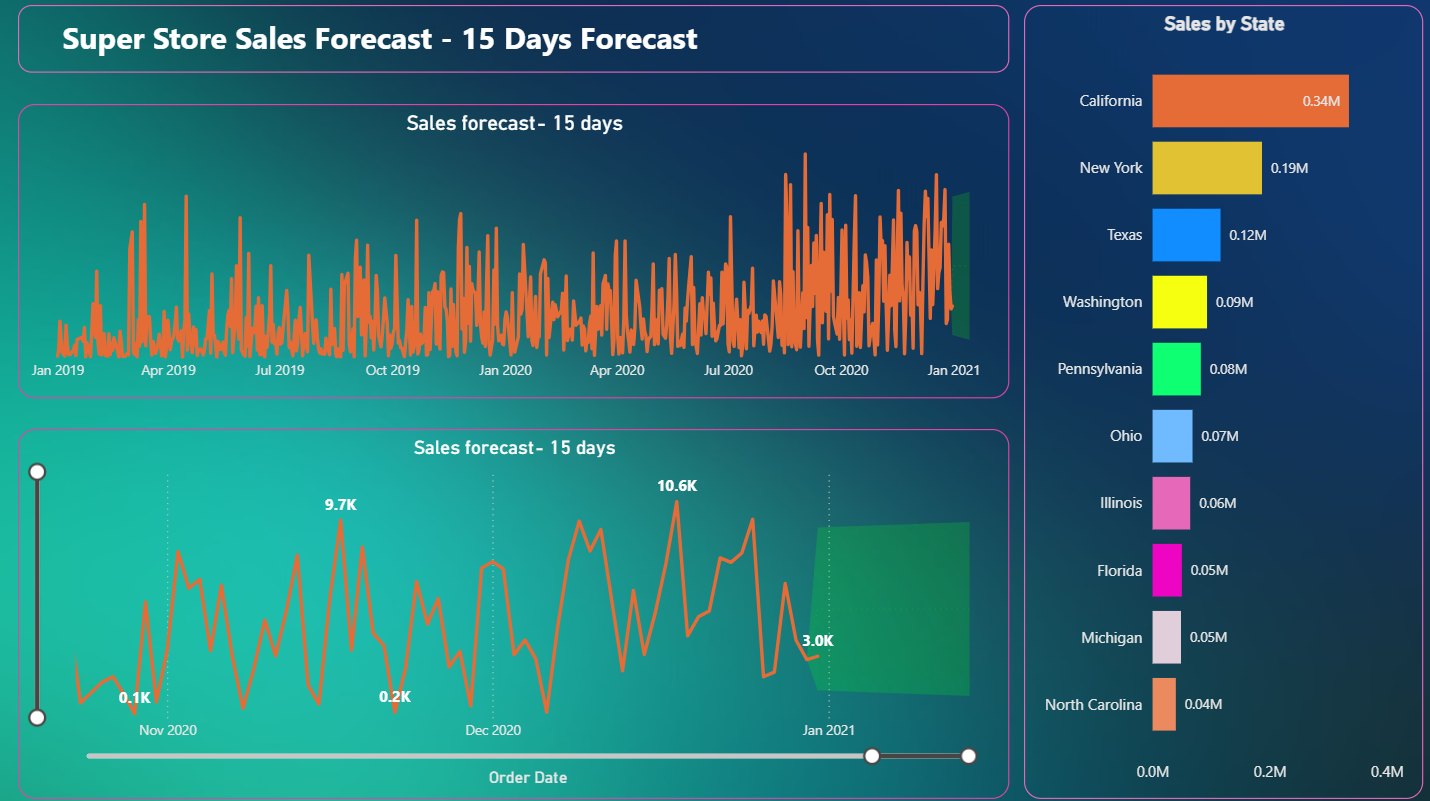

What the dashboard file says about the page in this screenshot:
{"tool":"powerbi","page":{"name":"Page 2","canvas":[1280,720],"ordinal":1},"visuals":[{"type":"lineChart","title":"Sales forecast- 15 days","fields":{"Y":["Sum(SuperStore_Sales_Dataset.Sales)"],"Category":["SuperStore_Sales_Dataset.Order Date"]},"box":[22.2,97.5,878.7,260.7],"z":0},{"type":"lineChart","title":"Sales forecast- 15 days","fields":{"Y":["Sum(SuperStore_Sales_Dataset.Sales)"],"Category":["SuperStore_Sales_Dataset.Order Date"]},"box":[22.2,385.7,878.7,328.1],"z":1000},{"type":"clusteredBarChart","title":"Sales by State","fields":{"Category":["SuperStore_Sales_Dataset.State"],"Y":["Sum(SuperStore_Sales_Dataset.Sales)"]},"box":[914.2,9.8,353.8,704],"z":2000},{"type":"textbox","box":[22.2,9.8,878.7,60.3],"z":3000}]}

Visuals, with their boxes in screenshot pixels (x1, y1, x2, y2), scaled from the page's 1280x720 canvas onto the 1430x801 screenshot:
"Sales forecast- 15 days" lineChart: bbox=(25, 108, 1006, 398)
"Sales forecast- 15 days" lineChart: bbox=(25, 429, 1006, 794)
"Sales by State" clusteredBarChart: bbox=(1021, 11, 1417, 794)
textbox: bbox=(25, 11, 1006, 78)
